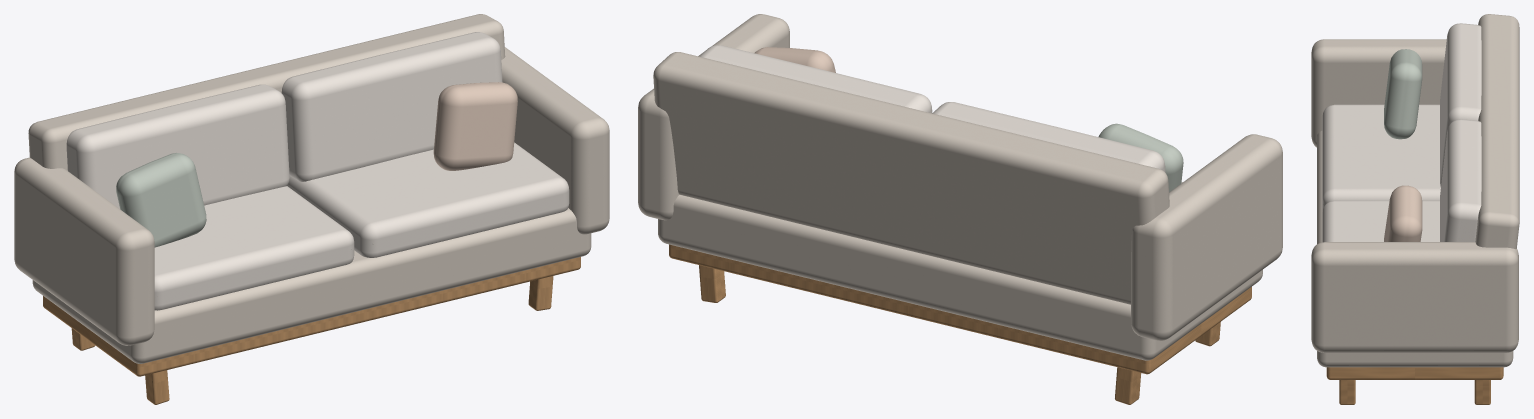
File: canape-aurore.glb
3 views of the same model, side by side, from view 1: azimuth 30°, elevation 25°; view 2: azimuth 150°, elevation 25°; view 3: azimuth 270°, elevation 25° (orthographic). The views are drawn at different scales.
Visible parts, largest first — view 1: Accoudoir (×2), Base_tissu, Dossier_2, Assise_2, Dossier_1, Assise_1, Dossier_structure, Structure_chene, Coussin_decoratif_2, Coussin_decoratif_1, Pied_chene (×2); view 2: Dossier_structure, Accoudoir (×2), Base_tissu, Structure_chene, Dossier_1, Dossier_2, Coussin_decoratif_1, Pied_chene (×2), Coussin_decoratif_2; view 3: Accoudoir (×2), Assise_1, Dossier_structure, Dossier_2, Dossier_1, Base_tissu, Assise_2, Coussin_decoratif_1, Structure_chene, Coussin_decoratif_2, Pied_chene (×2).
Part boxes in pixels (left/top/right/bottom): Accoudoir (×2): left=14, top=47, right=609, bottom=345; Base_tissu: left=32, top=208, right=591, bottom=363; Dossier_2: left=281, top=32, right=502, bottom=181; Assise_2: left=287, top=142, right=569, bottom=257; Dossier_1: left=66, top=84, right=289, bottom=208; Assise_1: left=154, top=186, right=354, bottom=310; Dossier_structure: left=28, top=14, right=505, bottom=170; Structure_chene: left=43, top=257, right=580, bottom=376; Coussin_decoratif_2: left=433, top=82, right=517, bottom=170; Coussin_decoratif_1: left=116, top=153, right=206, bottom=247; Pied_chene (×2): left=145, top=276, right=553, bottom=404; Dossier_structure: left=653, top=52, right=1169, bottom=304; Accoudoir (×2): left=638, top=14, right=1282, bottom=340; Base_tissu: left=658, top=194, right=1262, bottom=360; Structure_chene: left=669, top=244, right=1251, bottom=374; Dossier_1: left=932, top=102, right=1165, bottom=172; Dossier_2: left=699, top=45, right=932, bottom=113; Coussin_decoratif_1: left=1098, top=123, right=1183, bottom=192; Pied_chene (×2): left=699, top=265, right=1141, bottom=404; Coussin_decoratif_2: left=754, top=47, right=835, bottom=72; Accoudoir (×2): left=1311, top=39, right=1518, bottom=352; Assise_1: left=1322, top=104, right=1440, bottom=211; Dossier_structure: left=1475, top=14, right=1519, bottom=249; Dossier_2: left=1440, top=119, right=1481, bottom=241; Dossier_1: left=1440, top=23, right=1481, bottom=187; Base_tissu: left=1317, top=131, right=1513, bottom=367; Assise_2: left=1322, top=200, right=1439, bottom=242; Coussin_decoratif_1: left=1384, top=49, right=1422, bottom=139; Structure_chene: left=1326, top=367, right=1503, bottom=379; Coussin_decoratif_2: left=1384, top=185, right=1422, bottom=241; Pied_chene (×2): left=1339, top=380, right=1490, bottom=404.
Size of the model in its own units: 2.38 by 1.03 by 0.9532.
Materials: 6 (5 with a texture image).
